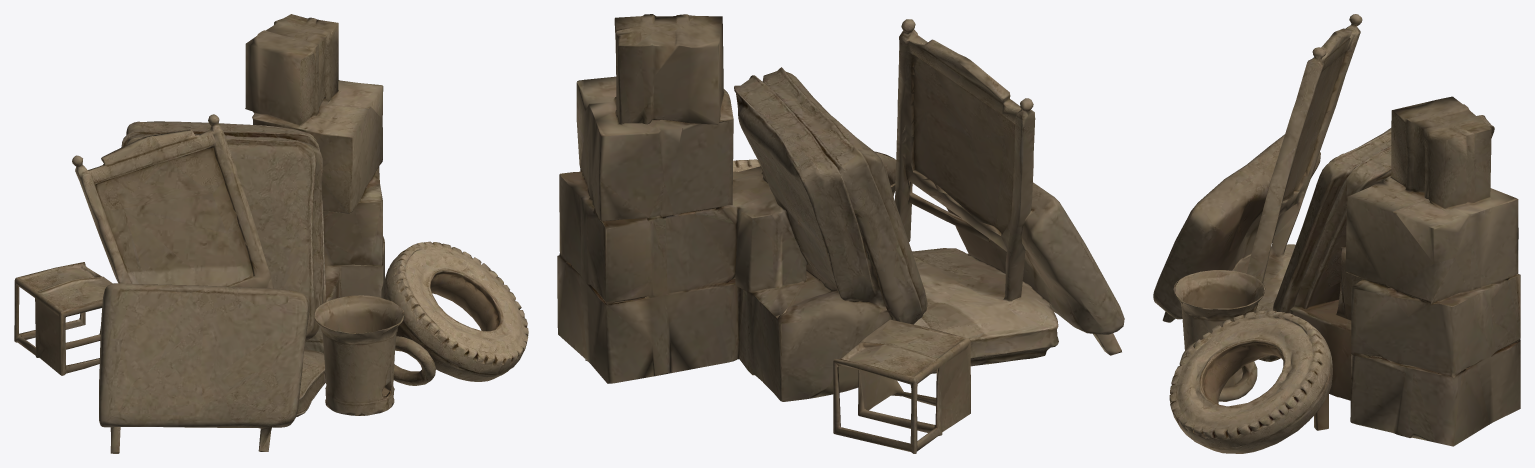
Rendered from becoJunk.glb.
3 renders of one model, left to right at view 1: azimuth 30°, elevation 25°; view 2: azimuth 150°, elevation 25°; view 3: azimuth 270°, elevation 25°, orthographic. The views are drawn at different scales.
Bounding box in the file's own units: 1.9 × 1.2 × 1.39.
Materials: 1 (1 with a texture image).
